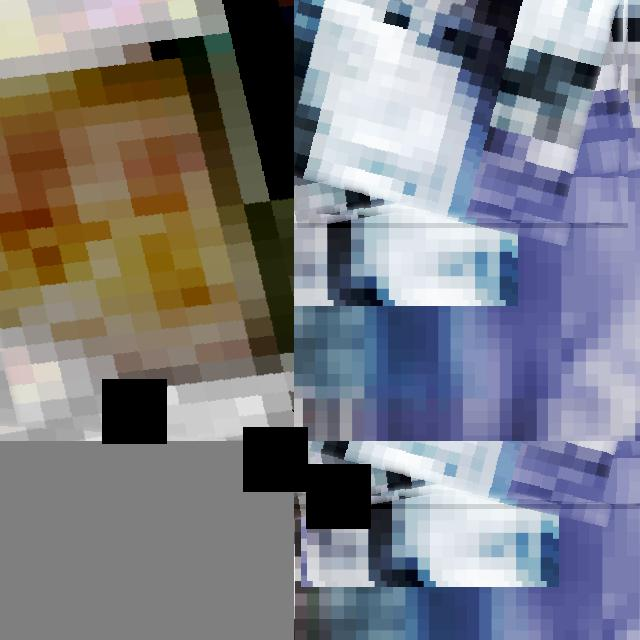arms: (0, 0, 294, 441), (294, 0, 628, 228), (294, 0, 628, 223), (294, 441, 640, 509), (294, 441, 640, 504)
